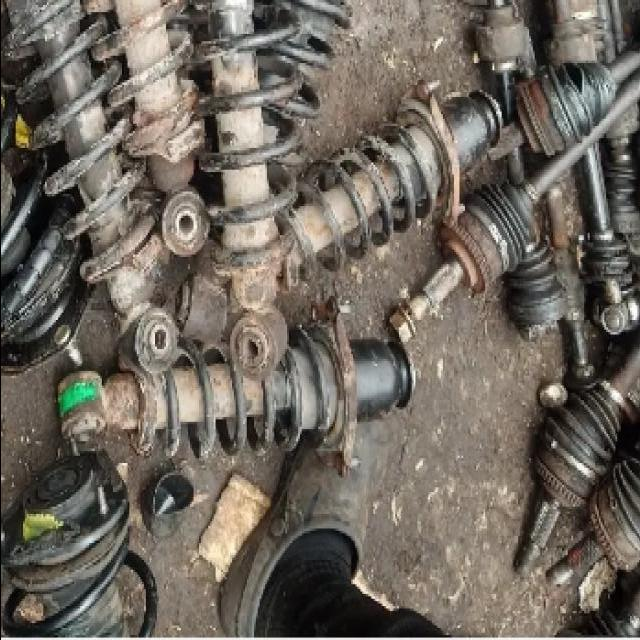shock absorber: (56, 294, 414, 481), (2, 0, 178, 375), (276, 78, 502, 297), (184, 0, 306, 381)
